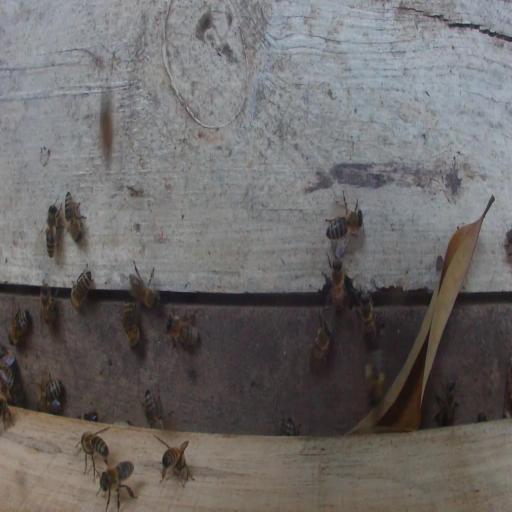bee: (325, 190, 364, 254), (95, 460, 135, 511), (129, 263, 162, 310), (78, 430, 109, 479), (308, 315, 333, 374), (165, 309, 199, 347), (63, 189, 86, 244), (433, 376, 458, 426), (358, 290, 380, 344), (43, 202, 61, 259), (70, 264, 92, 310), (1, 355, 22, 403), (122, 299, 141, 351), (366, 351, 385, 403), (8, 303, 30, 346), (38, 375, 63, 412), (161, 446, 186, 480), (145, 390, 163, 428), (40, 283, 54, 327), (332, 260, 344, 310), (0, 394, 14, 430)
